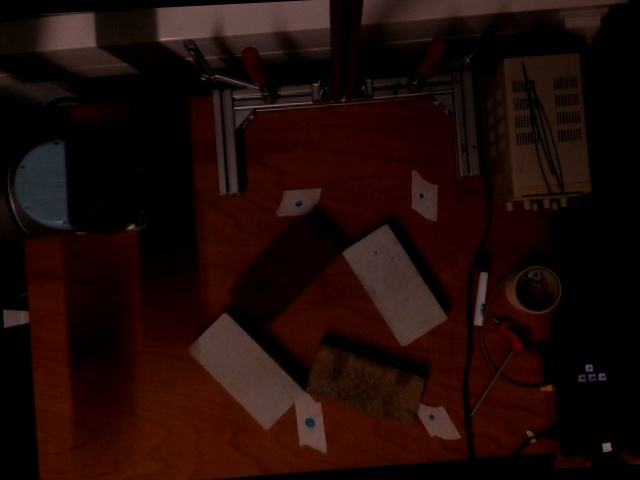brick: (190, 316, 303, 429), (228, 214, 342, 326), (345, 227, 445, 346), (305, 343, 426, 423)
